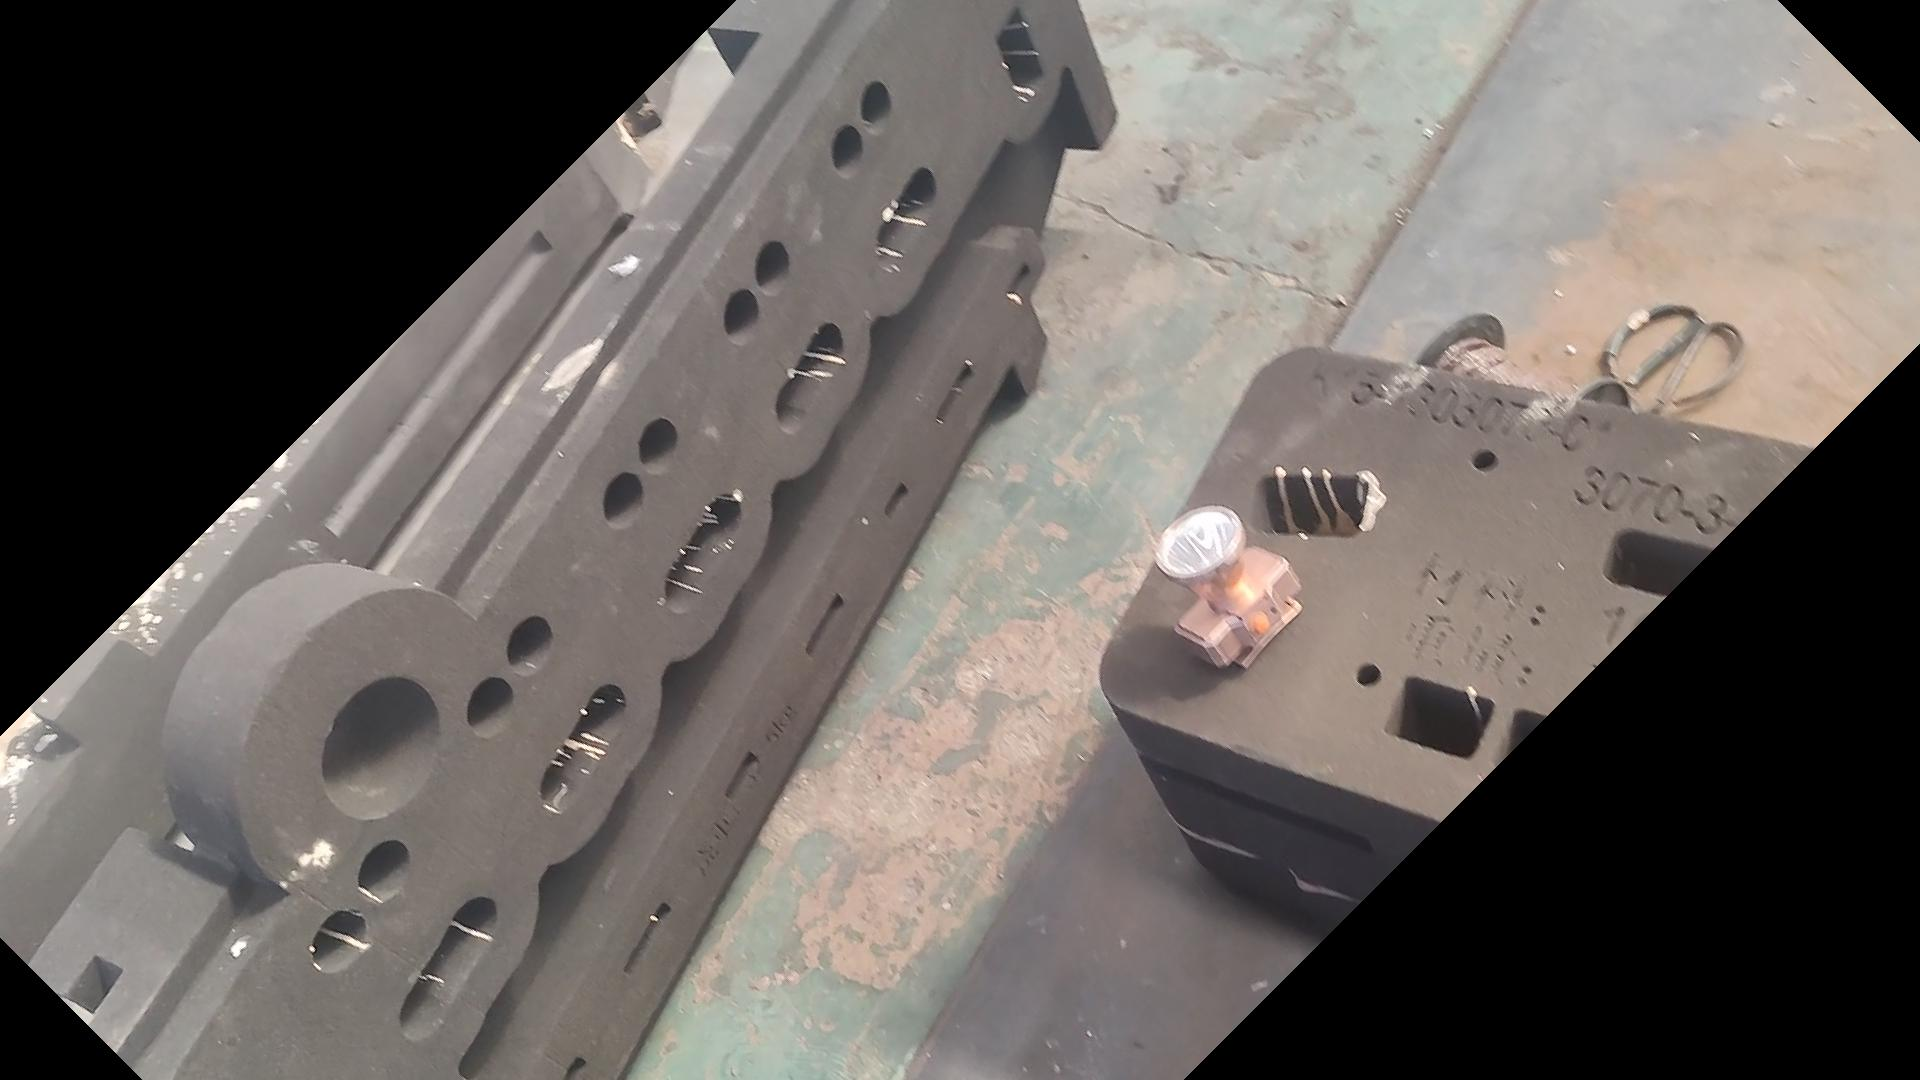pouring hole: (320, 676, 443, 820)
